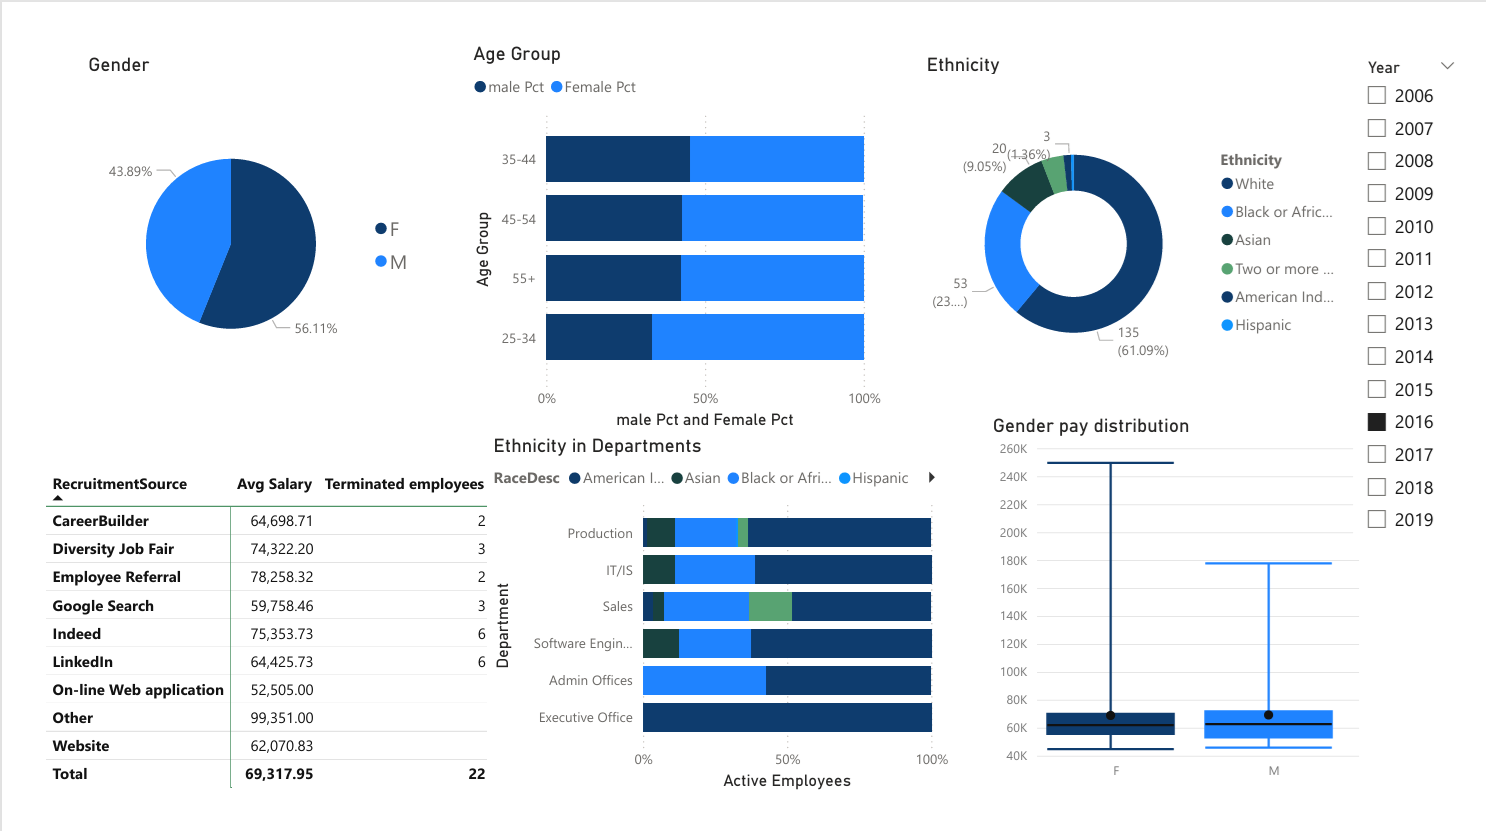

Layout of this report page (visuals, bound fields, positions):
{"tool":"powerbi","page":{"name":"Demographics & Diversity","canvas":[1280,720],"ordinal":1},"visuals":[{"type":"pieChart","title":"Gender","fields":{"Category":["HRDataset_v14.Sex"],"Y":["KPI.1Active Employees"]},"box":[48,20.6,303.3,321.1],"z":0},{"type":"donutChart","title":"Ethnicity","fields":{"Category":["HRDataset_v14.RaceDesc"],"Y":["KPI.1Active Employees"]},"box":[793.1,20.6,384.2,321.1],"z":1000},{"type":"hundredPercentStackedBarChart","title":" Age Group","fields":{"Y":["KPI.Male Pct","KPI.Female Pct"],"Category":["HRDataset_v14.Age Group"]},"box":[389.7,12.3,371.9,347.2],"z":2000},{"type":"pivotTable","fields":{"Rows":["HRDataset_v14.RecruitmentSource"],"Values":["KPI.Avg Salary","KPI.9Terminated In Period"]},"box":[11,387,441.9,303.3],"z":3000},{"type":"hundredPercentStackedBarChart","title":"Ethnicity in Departments","fields":{"Category":["HRDataset_v14.Department"],"Y":["KPI.Active Employees"],"Series":["HRDataset_v14.RaceDesc"]},"box":[407.5,359.5,414.4,321.1],"z":4000},{"type":"BoxWhiskerChart1455240051538","title":"Gender pay distribution","fields":{"Groups":["HRDataset_v14.Sex"],"Values":["KPI.11Active Staff Salary"],"Samples":["HRDataset_v14.Employee_Name"]},"box":[852.1,341.7,334.8,338.9],"z":5000},{"type":"slicer","fields":{"Values":["DateTable.Year"]},"box":[1177.4,20.6,102.9,440.5],"z":6001}]}

Visuals, with their boxes in screenshot pixels (x1, y1, x2, y2), scaled from the page's 1280x720 canvas onto the 1486x831 screenshot:
"Gender" pieChart: <region>56, 24, 408, 394</region>
"Ethnicity" donutChart: <region>921, 24, 1367, 394</region>
" Age Group" hundredPercentStackedBarChart: <region>452, 14, 884, 415</region>
pivotTable - HRDataset_v14.RecruitmentSource x KPI.Avg Salary: <region>13, 447, 526, 797</region>
"Ethnicity in Departments" hundredPercentStackedBarChart: <region>473, 415, 954, 786</region>
"Gender pay distribution" BoxWhiskerChart1455240051538: <region>989, 394, 1378, 786</region>
slicer - DateTable.Year: <region>1367, 24, 1485, 532</region>
